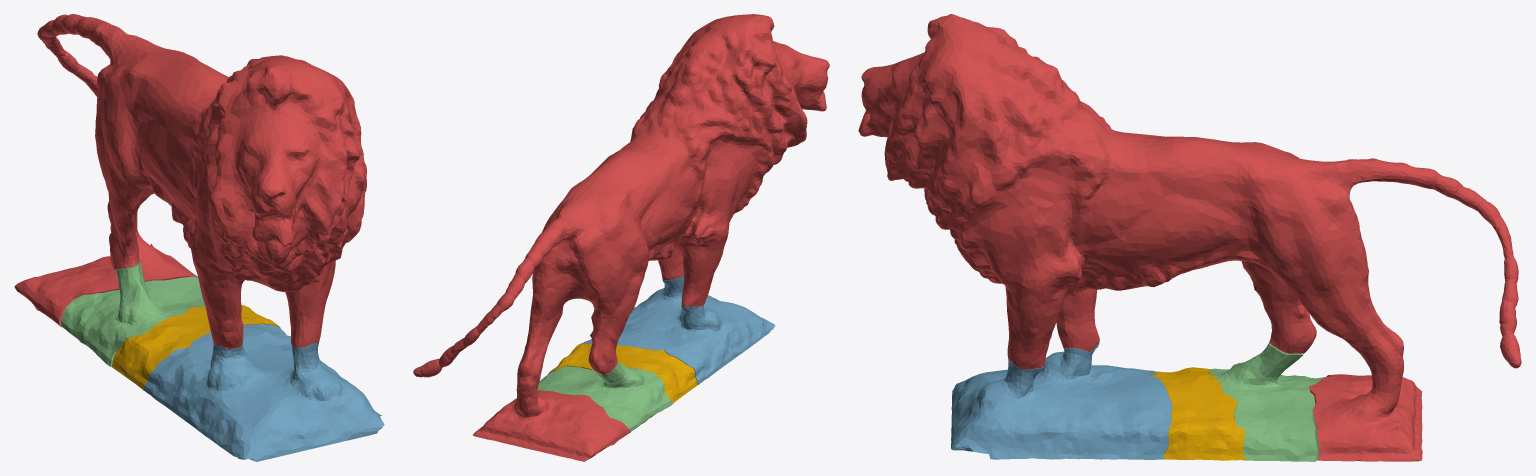
Rendered from fractured_13_4pcs.glb.
3 views of the same model, side by side, from view 1: azimuth 30°, elevation 25°; view 2: azimuth 150°, elevation 25°; view 3: azimuth 270°, elevation 25° (orthographic). The views are drawn at different scales.
Parts seen in each view (by area): view 1: piece_1.obj, piece_2.obj, piece_3.obj, piece_0.obj; view 2: piece_1.obj, piece_2.obj, piece_3.obj, piece_0.obj; view 3: piece_1.obj, piece_2.obj, piece_3.obj, piece_0.obj.
Boxes of the visible parts, x1,y1,x2,y2 form: piece_1.obj: (14, 14, 366, 348); piece_2.obj: (143, 324, 384, 461); piece_3.obj: (60, 262, 205, 366); piece_0.obj: (112, 305, 280, 389); piece_1.obj: (413, 14, 829, 461); piece_2.obj: (582, 275, 775, 384); piece_3.obj: (537, 361, 673, 430); piece_0.obj: (547, 343, 697, 402); piece_1.obj: (858, 14, 1521, 461); piece_2.obj: (951, 340, 1172, 459); piece_3.obj: (1208, 343, 1326, 461); piece_0.obj: (1151, 367, 1246, 460).
Bounding box in the file's own units: 0.3667 × 0.642 × 1.
